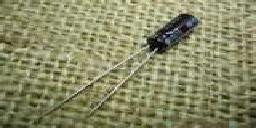Electrolytic-capacitor: (39, 14, 202, 128)
